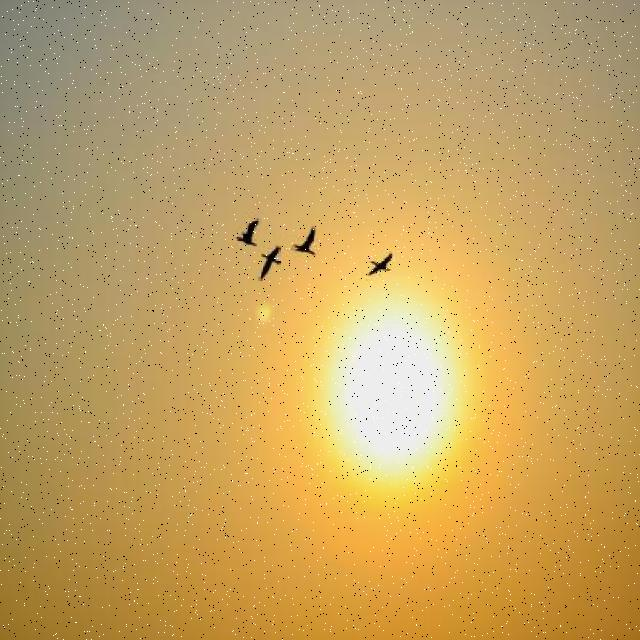bird: (258, 244, 280, 282), (234, 219, 260, 247), (292, 226, 316, 254), (366, 252, 392, 276)
